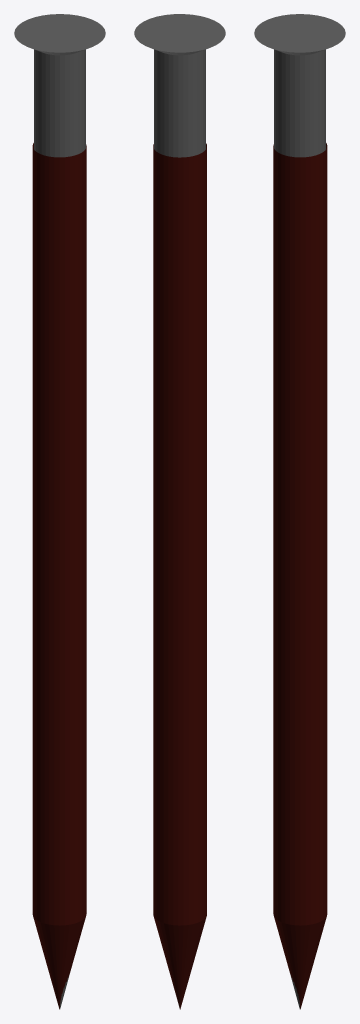
The model's file is NewNail.fbx.
3 renders of one model, left to right at view 1: azimuth 90°, elevation 25°; view 2: azimuth 210°, elevation 25°; view 3: azimuth 270°, elevation 25°, orthographic.
Parts seen in each view (by area): view 1: Cone.001; view 2: Cone.001; view 3: Cone.001.
Part boxes in pixels (box(x1,y1,x2,y2)): Cone.001: box(14, 14, 105, 1009); Cone.001: box(134, 14, 225, 1009); Cone.001: box(254, 14, 345, 1009).
Size of the model in its own units: 61.53 by 723 by 61.53.
